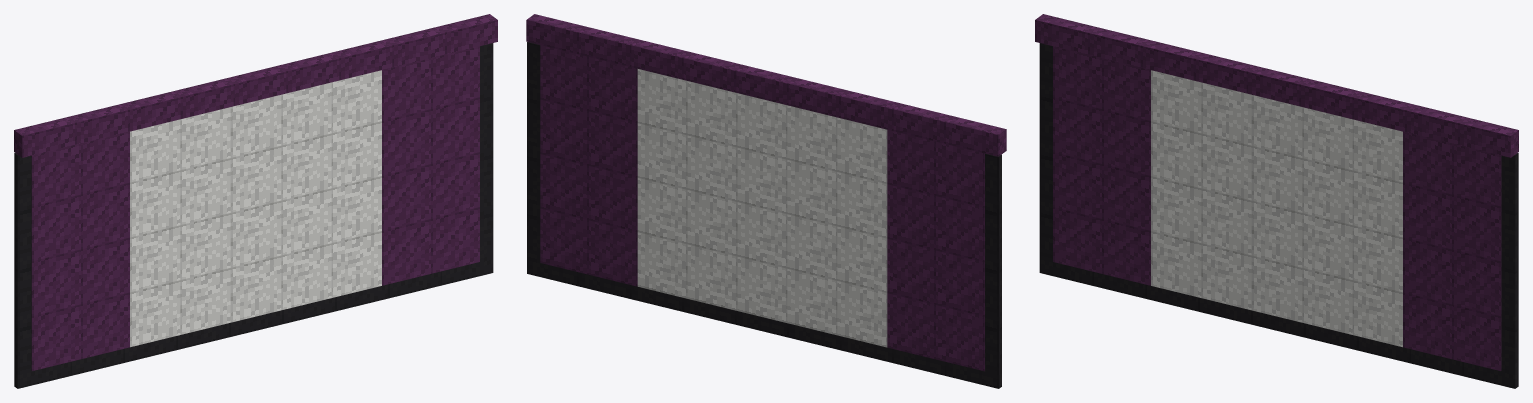
File: cinemaScreen_1.glb
The picture shows the model from 3 angles, left to right: view 1: azimuth 30°, elevation 25°; view 2: azimuth 150°, elevation 25°; view 3: azimuth 330°, elevation 25°; orthographic projection.
Visible parts, largest first — view 1: cinemaScreen_1; view 2: cinemaScreen_1; view 3: cinemaScreen_1.
Boxes of the visible parts, x1=… form: cinemaScreen_1: x1=14, y1=14, x2=497, y2=388; cinemaScreen_1: x1=526, y1=14, x2=1006, y2=388; cinemaScreen_1: x1=1035, y1=14, x2=1518, y2=388.
Size of the model in its own units: 4.25 by 2.19 by 0.125.
1 material, 1 textured.
